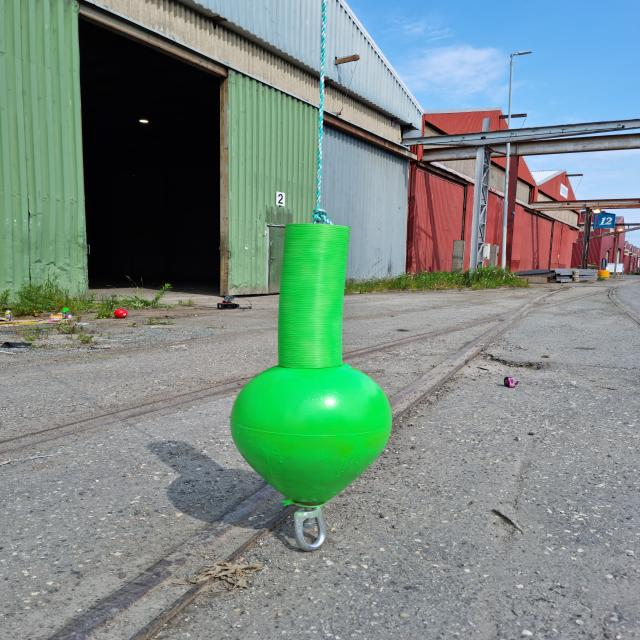green: (232, 223, 394, 507)
